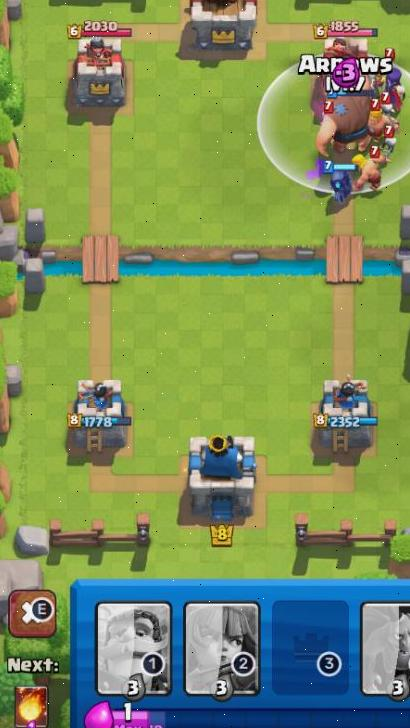enemy_barbarians: (355, 148, 388, 187)
enemy_skeletons: (367, 120, 401, 152)
player_giant: (314, 90, 387, 159)
player_mini_pekka: (317, 158, 361, 204)
